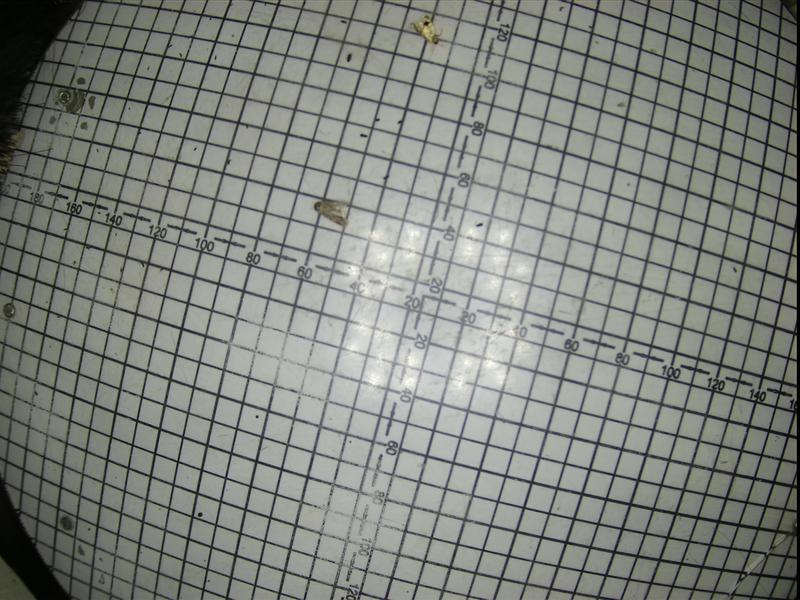Spodoptera exigua: (310, 198, 353, 226)
